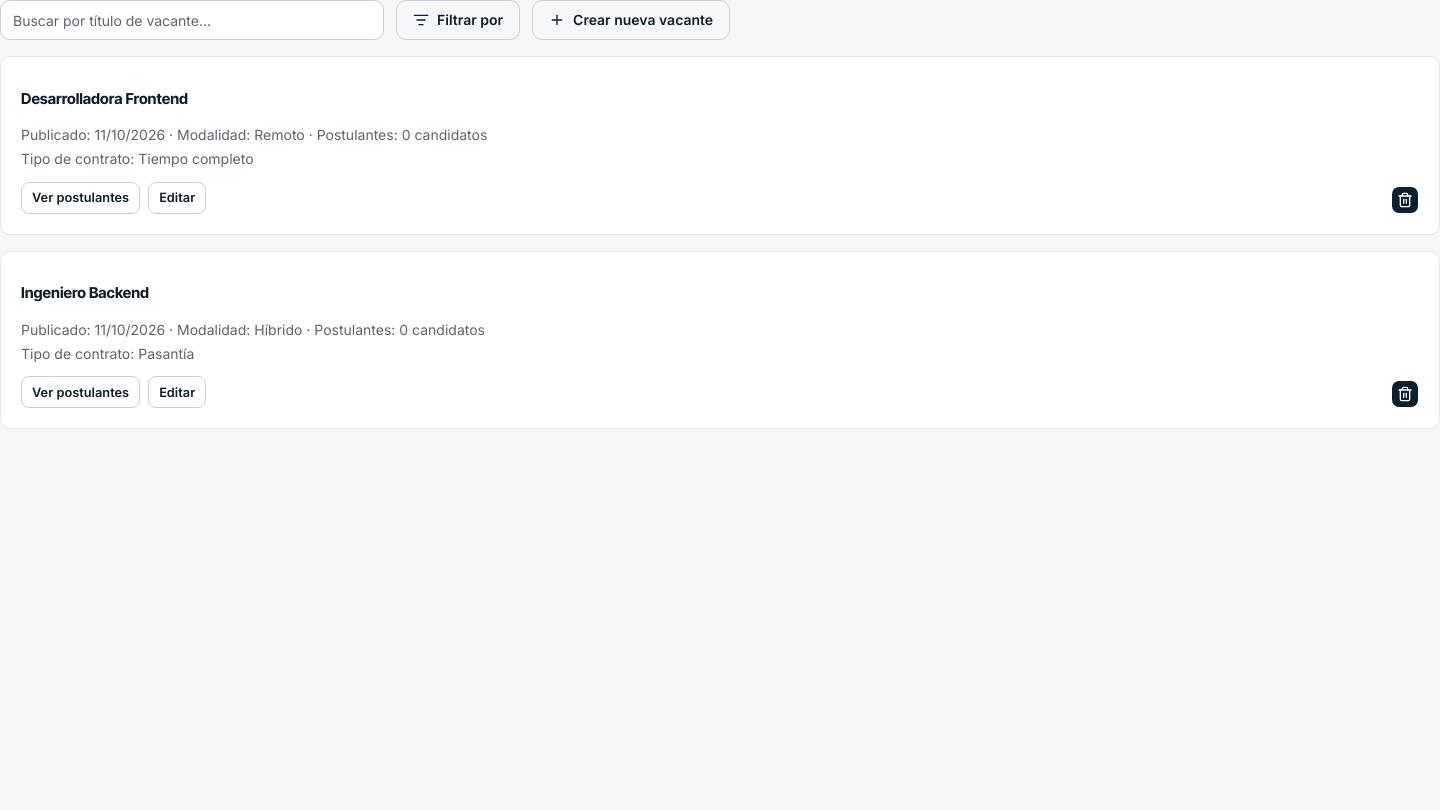
VacancyList details › renders empty optional fields and handles an extensive description
Click the button "Desarrolladora Frontend".
click(104, 99)  # box [21,77,188,121]
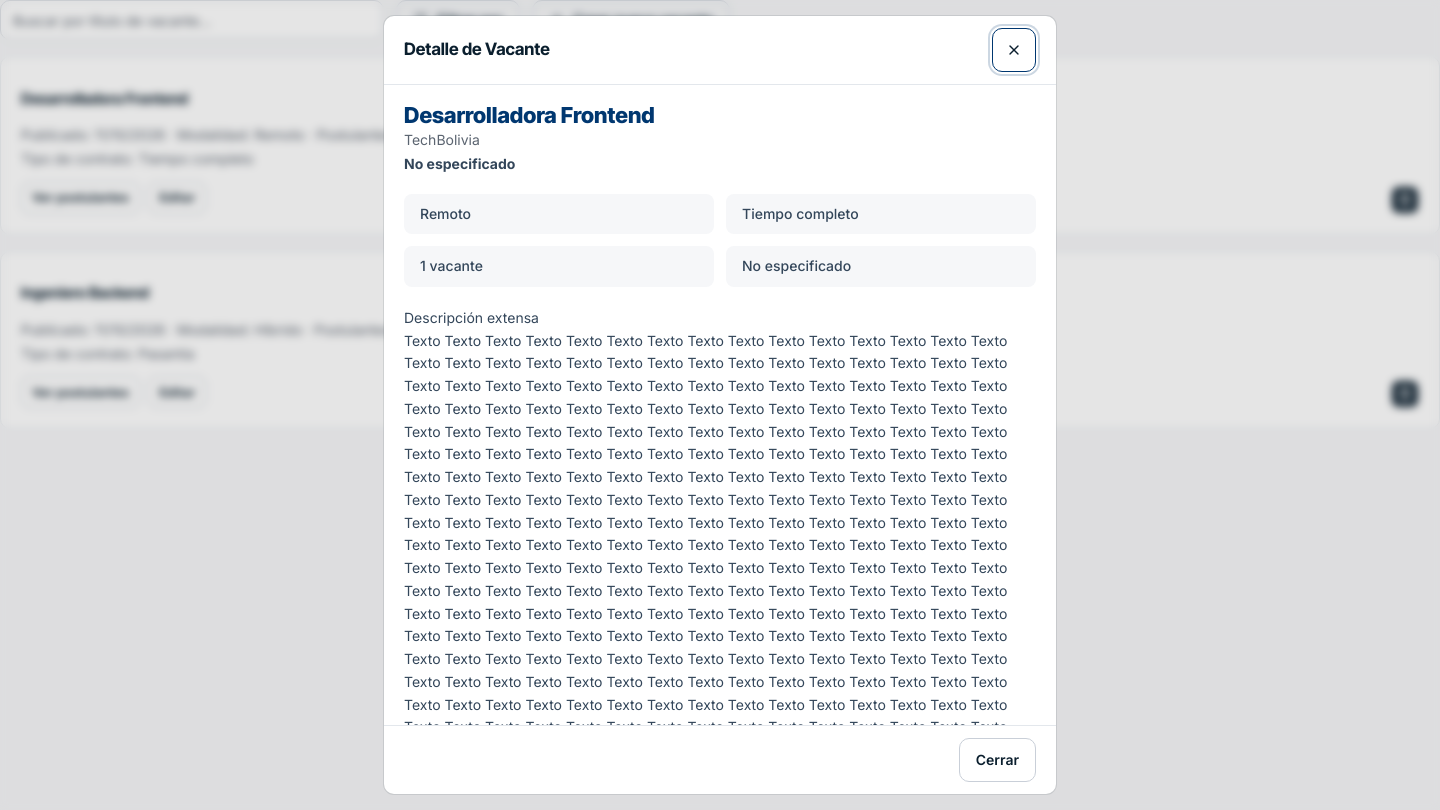
Expected: the text "No especificado" is shown 4 times
Click the button named "Cerrar detalles de vacante".
click(1014, 50)  # box [992,28,1036,72]
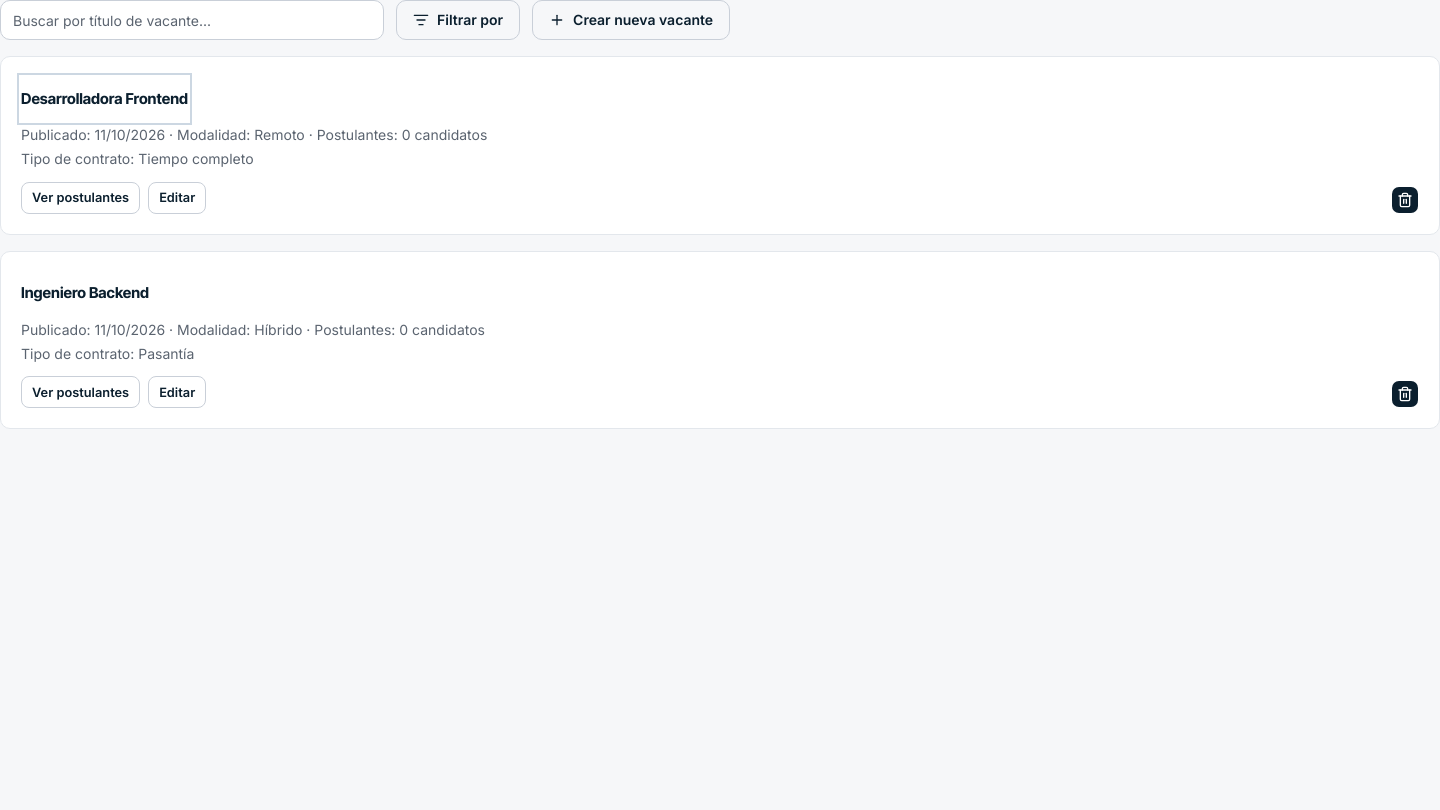
Expected: the dialog is gone
